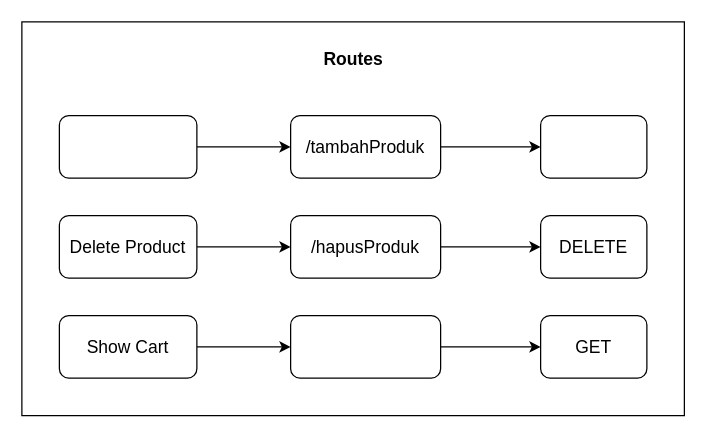
Image size: 706x438. Some labels were removed from this diagram. The centre of each missing label's shape, as x and y in pixels:
"/tampilkanCart" belongs at [365,346].
"Add Product" belongs at [127,146].
"POST" belongs at [593,146].
